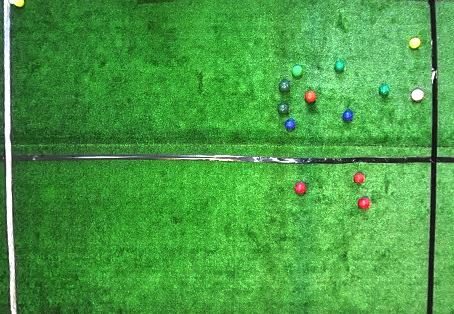blue: (285, 119, 296, 131), (342, 111, 353, 122)
green: (292, 65, 303, 77), (279, 81, 290, 92), (334, 61, 345, 72), (278, 103, 289, 113), (379, 85, 389, 95)
red: (304, 91, 317, 103), (411, 89, 424, 101), (294, 182, 307, 194), (358, 198, 370, 209), (353, 173, 364, 183)
vline: (426, 1, 454, 313), (0, 1, 20, 313)
white: (10, 1, 14, 4)
yellow: (409, 38, 421, 49), (13, 1, 25, 7)
